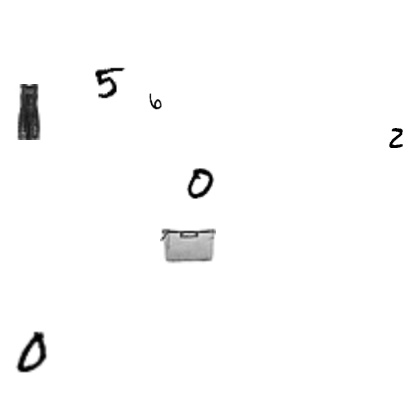0: (4, 324, 60, 380), (178, 161, 220, 203)
2: (382, 124, 410, 152)
5: (85, 59, 127, 101)
6: (144, 92, 166, 114)
Bag: (160, 217, 216, 273)
Dress: (0, 84, 56, 140)
